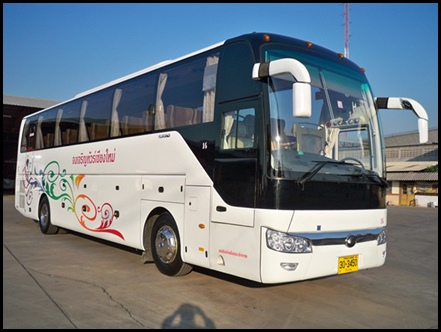bus: (12, 32, 388, 286)
